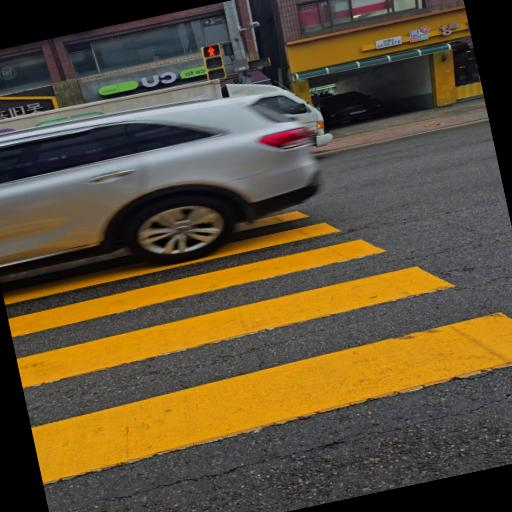yellow-crosswalk: (0, 109, 512, 496)
